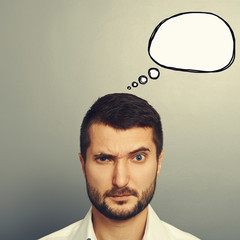young: (76, 95, 164, 218)
